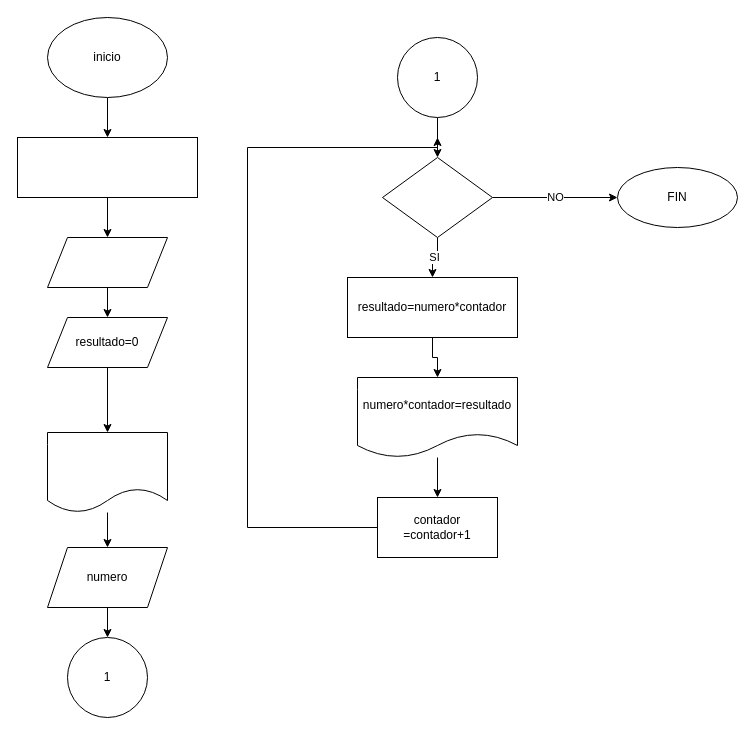
The diagram is 755 pixels wide and 735 high, and some of its shapes have lost their labels. The centre of each missing label's shape, as x and y in pixels:
"ingresa un numero": (x=107, y=472)
contador<=10: (x=437, y=197)
contador=1: (x=107, y=262)
numero,contador,resultado: (x=107, y=167)
